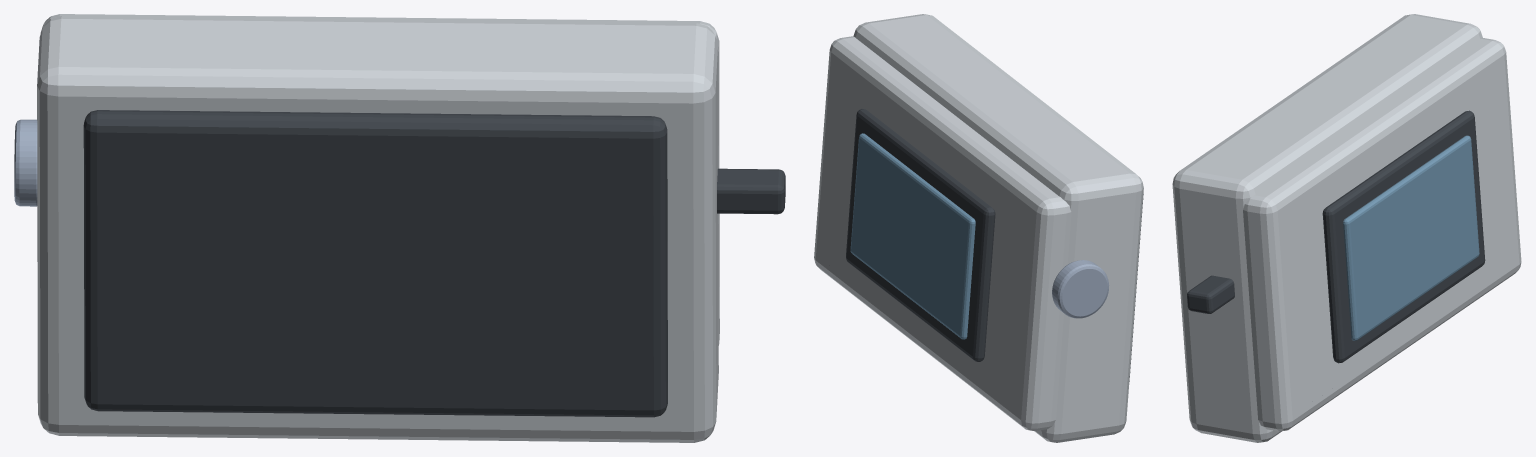
File: auriga_meter.glb
The picture shows the model from 3 angles, left to right: view 1: azimuth 30°, elevation 25°; view 2: azimuth 150°, elevation 25°; view 3: azimuth 270°, elevation 25°; orthographic projection. The views are drawn at different scales.
Parts seen in each view (by area): view 1: BODY_LOWER_INSERT, BODY_BASE, SIDE_PORT, LID_SHELL, CONTROL_DIAL; view 2: LID_SHELL, BODY_BASE, DISPLAY_GLASS, DISPLAY_BEZEL, CONTROL_DIAL; view 3: LID_SHELL, BODY_BASE, DISPLAY_GLASS, DISPLAY_BEZEL, SIDE_PORT.
Part boxes in pixels (box(x1,y1,x2,y2)): BODY_LOWER_INSERT: box(83, 110, 667, 417); BODY_BASE: box(37, 16, 718, 442); SIDE_PORT: box(717, 168, 785, 214); LID_SHELL: box(40, 14, 719, 345); CONTROL_DIAL: box(14, 119, 37, 206); LID_SHELL: box(814, 36, 1071, 430); BODY_BASE: box(853, 14, 1143, 442); DISPLAY_GLASS: box(850, 133, 975, 339); DISPLAY_BEZEL: box(846, 109, 995, 361); CONTROL_DIAL: box(1052, 260, 1109, 318); LID_SHELL: box(1243, 38, 1521, 431); BODY_BASE: box(1172, 14, 1482, 442); DISPLAY_GLASS: box(1343, 135, 1479, 340); DISPLAY_BEZEL: box(1322, 110, 1485, 363); SIDE_PORT: box(1187, 275, 1234, 313).
Bounding box in the file's own units: 2.53 × 1.57 × 1.9.
